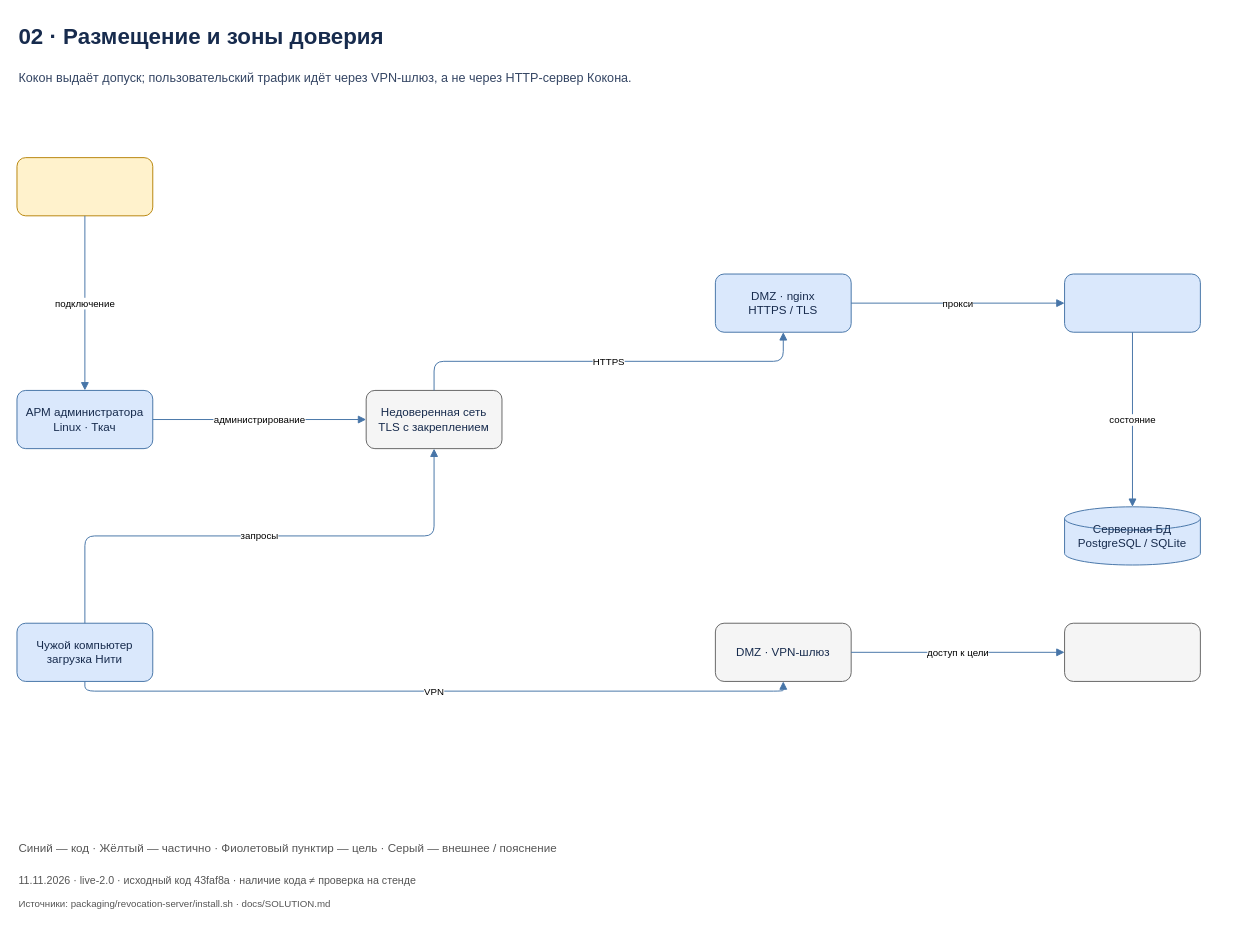
This 1237x945 diagram has some shape labels left out. The centre of each missing label's shape, as x and y in pixels:
"DMZ · Кокон HTTP на loopback" belongs at (1132,302).
"Внутренняя сеть рабочие места" belongs at (1132,651).
"Сейф / офлайн корневой носитель" belongs at (84,186).
